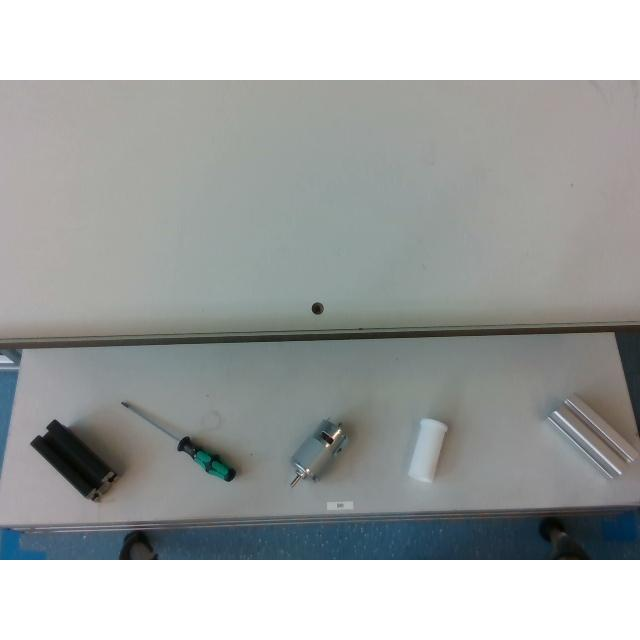Motor2: (289, 419, 347, 487)
S40_40_B: (32, 420, 116, 500)
S40_40_G: (546, 398, 638, 478)
Screwdriver: (120, 402, 236, 482)
Spacer: (408, 418, 448, 482)
